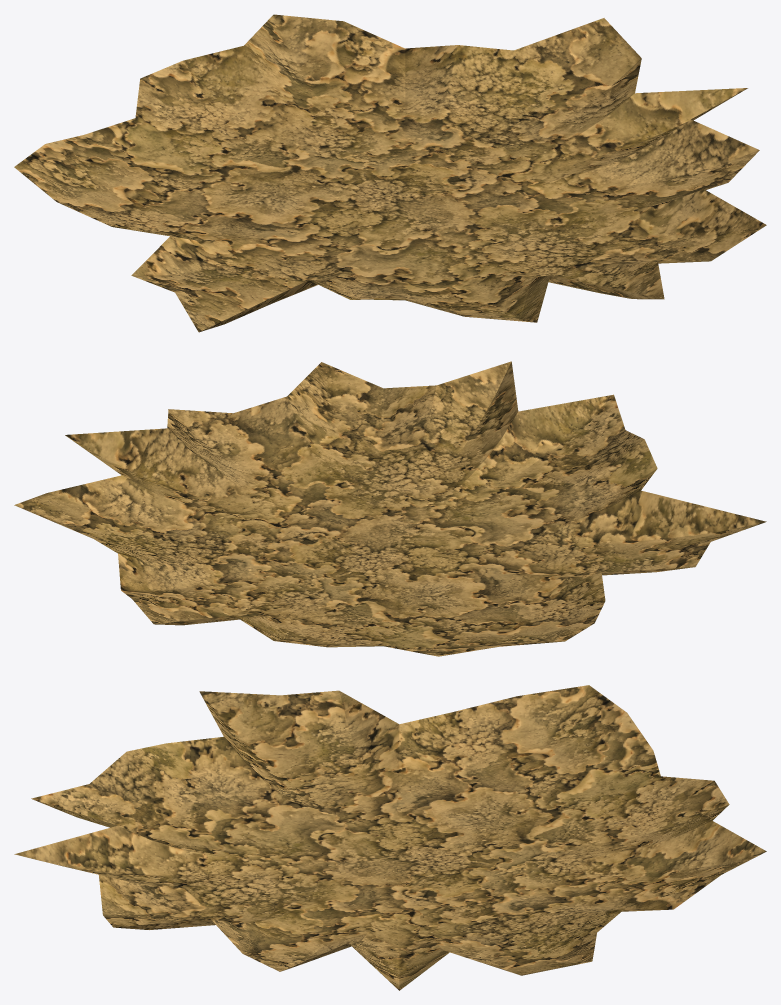
Rendered from lichen_crust_v02.glb.
The picture shows the model from 3 angles, top to bottom: view 1: azimuth 30°, elevation 25°; view 2: azimuth 150°, elevation 25°; view 3: azimuth 270°, elevation 25°; orthographic projection. The views are drawn at different scales.
Parts seen in each view (by area): view 1: lichen_crust_v02; view 2: lichen_crust_v02; view 3: lichen_crust_v02.
Boxes of the visible parts, x1,y1,x2,y2 form: lichen_crust_v02: (14, 14, 766, 332); lichen_crust_v02: (14, 361, 766, 656); lichen_crust_v02: (14, 685, 766, 990).
Bounding box in the file's own units: 0.4859 × 0.0329 × 0.5003.
Materials: 1 (1 with a texture image).
